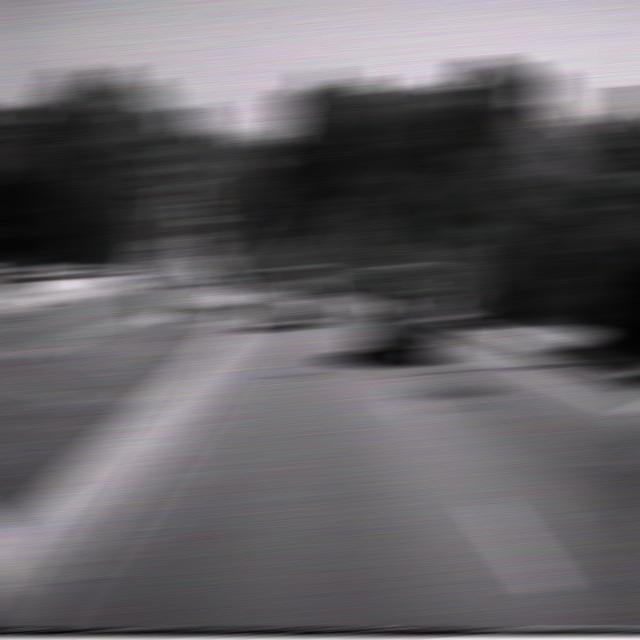speedLimit25: (133, 127, 186, 208)
